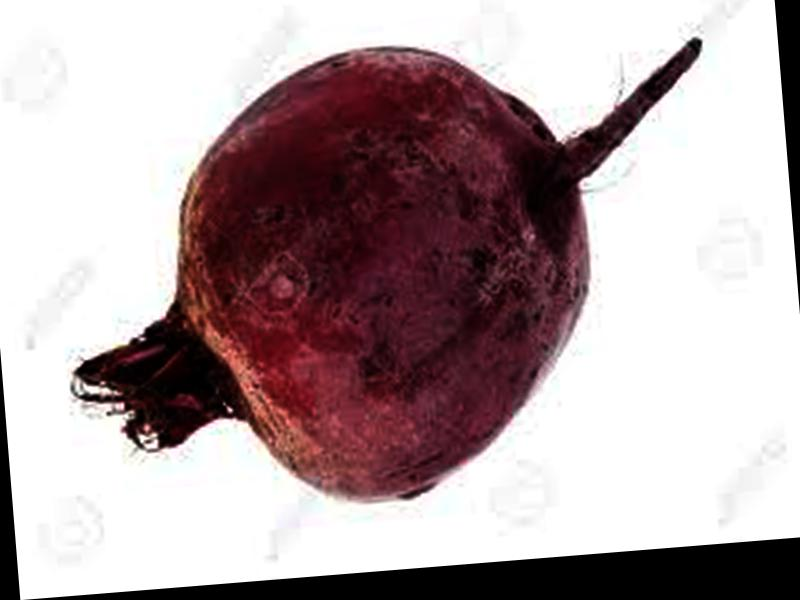Beet: (51, 24, 728, 519)
